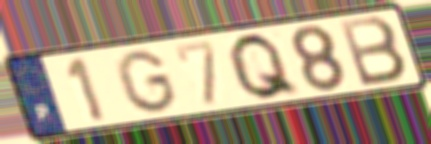1: (64, 55, 108, 124)
7: (171, 37, 220, 108)
8: (289, 23, 349, 94)
B: (335, 14, 410, 90)
G: (113, 48, 181, 115)
Q: (225, 30, 305, 103)
